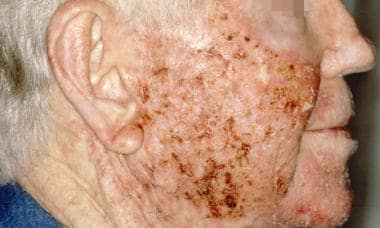Actinic Keratosis: (141, 7, 321, 228)
